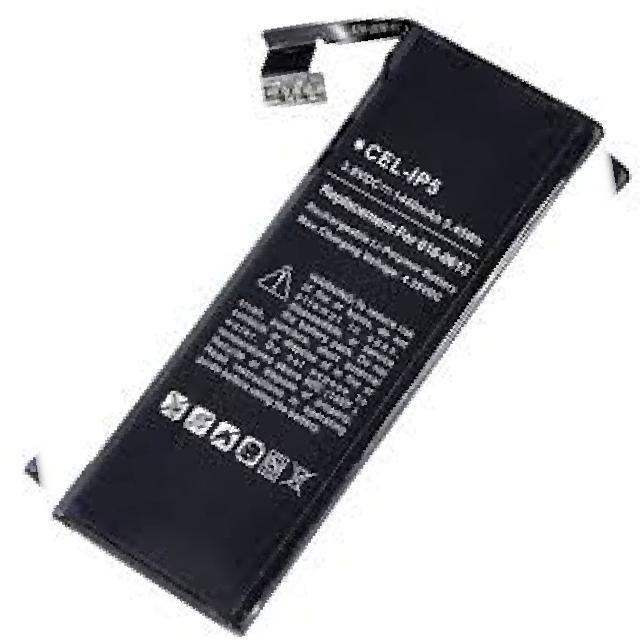Battery: (48, 0, 610, 640)
